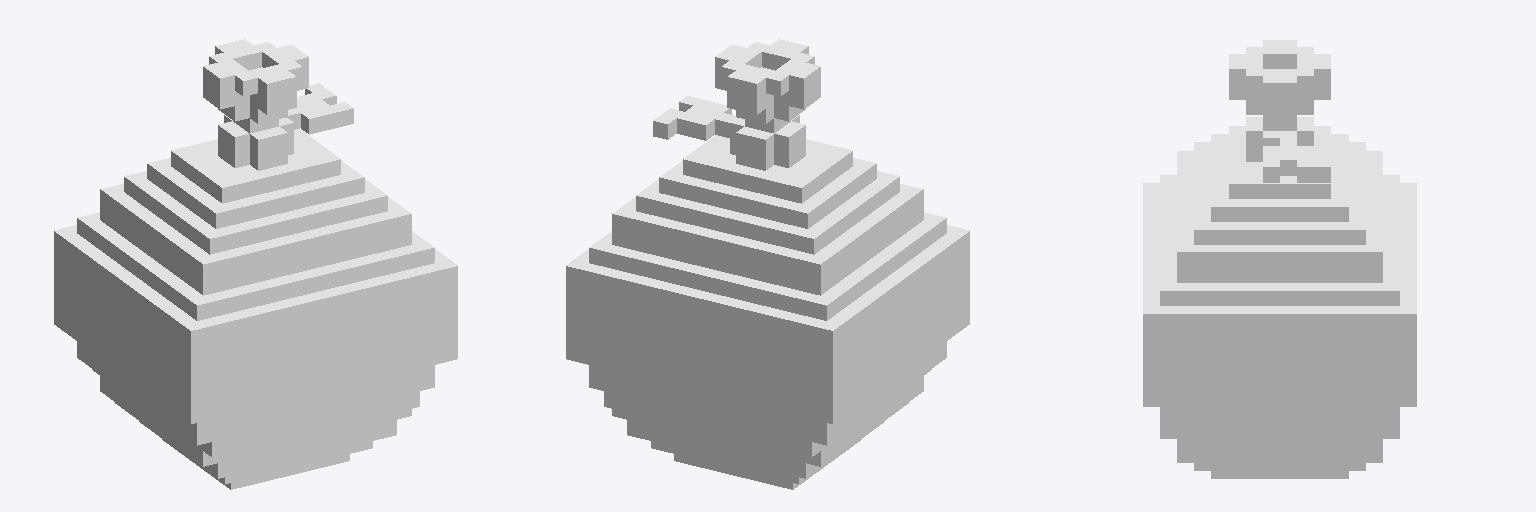
Rendered from monkaya.obj.
3 views of the same model, side by side, from view 1: azimuth 30°, elevation 25°; view 2: azimuth 150°, elevation 25°; view 3: azimuth 270°, elevation 25° (orthographic).
Parts seen in each view (by area): view 1: object 1; view 2: object 1; view 3: object 1.
Boxes of the visible parts, box(x1,y1,x2,y2) form: object 1: box(54, 39, 457, 489); object 1: box(566, 39, 969, 489); object 1: box(1143, 40, 1416, 478).
Bounding box in the file's own units: 1.8 × 2.5 × 1.6.